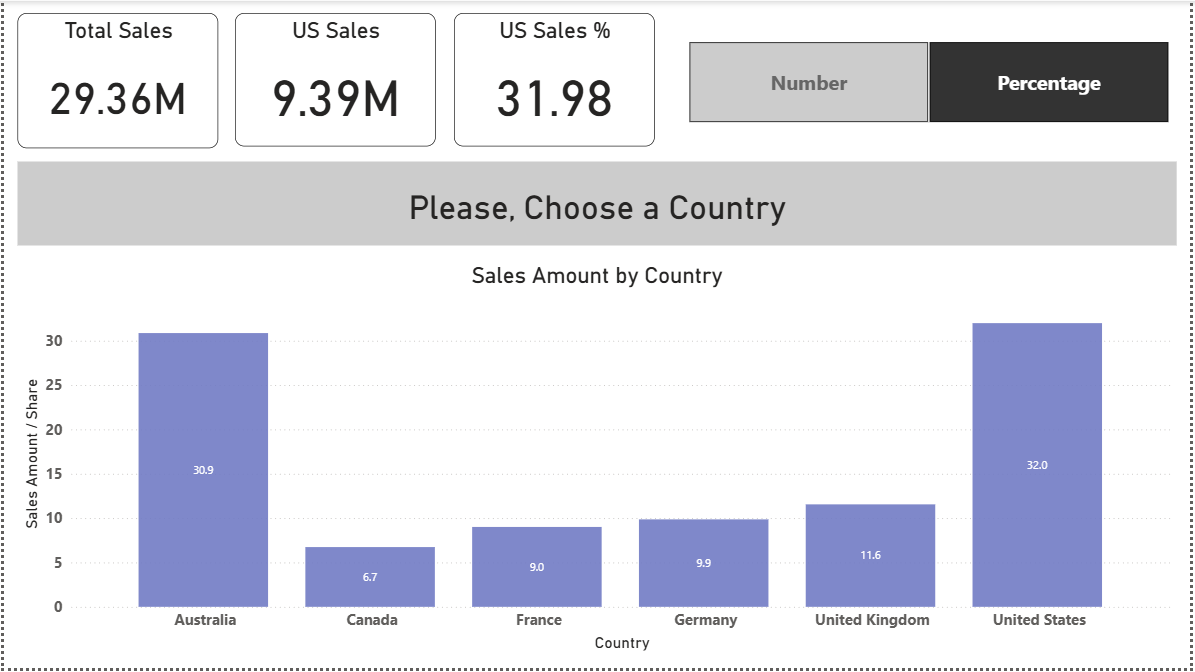

The dashboard page shown, as its layout file describes it:
{"tool":"powerbi","page":{"name":"Page 1","canvas":[1280,720],"ordinal":0},"visuals":[{"type":"slicer","fields":{"Values":["SwitchTable.DataType"]},"box":[714.1,37.2,566.7,100.4],"z":0},{"type":"card","title":"Total Sales","fields":{"Values":["#Measures.TotalSalesAmount"]},"box":[14.6,13,217,145.7],"z":1000},{"type":"card","title":"US Sales","fields":{"Values":["#Measures.SalesAmountUnitedStates"]},"box":[249.4,13,217,144.1],"z":2000},{"type":"card","title":"US Sales %","fields":{"Values":["#Measures.%SalesAmountUnitedStates"]},"box":[485.8,13,217,144.1],"z":3000},{"type":"card","fields":{"Values":["#Measures.SelectedCountry"]},"box":[14.6,173.3,1251.7,90.7],"z":4000},{"type":"clusteredColumnChart","title":"Sales Amount by Country","fields":{"Y":["#Measures.NumberVsPercentage"],"Category":["dim_SalesTeritory.SalesTerritoryCountry"]},"box":[14.6,281.7,1251.7,424.2],"z":5000}]}

Visuals, with their boxes in screenshot pixels (x1, y1, x2, y2), scaled from the page's 1280x720 canvas onto the 1195x672 screenshot:
slicer - SwitchTable.DataType: detection(667, 35, 1194, 128)
"Total Sales" card: detection(14, 12, 216, 148)
"US Sales" card: detection(233, 12, 435, 147)
"US Sales %" card: detection(454, 12, 656, 147)
card - #Measures.SelectedCountry: detection(14, 162, 1182, 246)
"Sales Amount by Country" clusteredColumnChart: detection(14, 263, 1182, 659)
